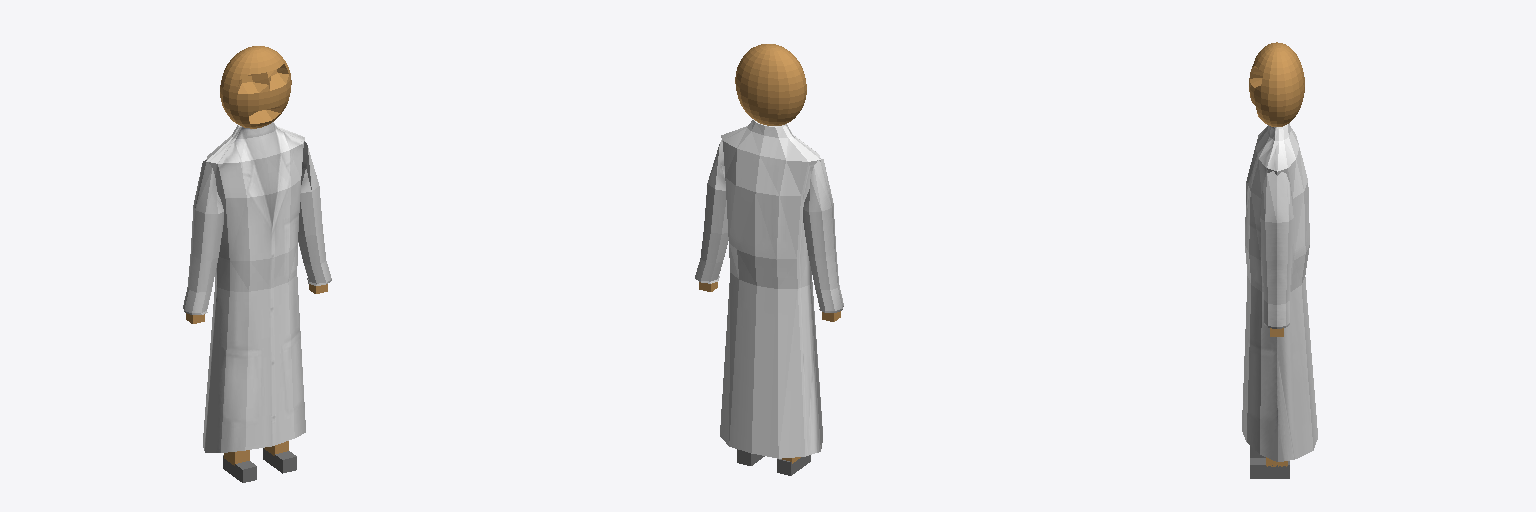
The picture shows the model from 3 angles: view 1: azimuth 30°, elevation 25°; view 2: azimuth 150°, elevation 25°; view 3: azimuth 270°, elevation 25°; orthographic projection.
Visible parts, largest first — view 1: pCylinder4, pSphere1, pCube6, pCube5; view 2: pCylinder4, pSphere1; view 3: pCylinder4, pSphere1, pCube5.
Boxes of the visible parts, x1=… form: pCylinder4: x1=183, y1=122, x2=331, y2=452; pSphere1: x1=220, y1=46, x2=291, y2=128; pCube6: x1=223, y1=455, x2=256, y2=482; pCube5: x1=263, y1=448, x2=296, y2=473; pCylinder4: x1=695, y1=119, x2=843, y2=458; pSphere1: x1=735, y1=44, x2=806, y2=125; pCylinder4: x1=1242, y1=123, x2=1317, y2=461; pSphere1: x1=1249, y1=42, x2=1304, y2=126; pCube5: x1=1250, y1=458, x2=1289, y2=478.
Size of the model in its own units: 0.5771 by 1.58 by 0.2611.
3 materials, 1 textured.